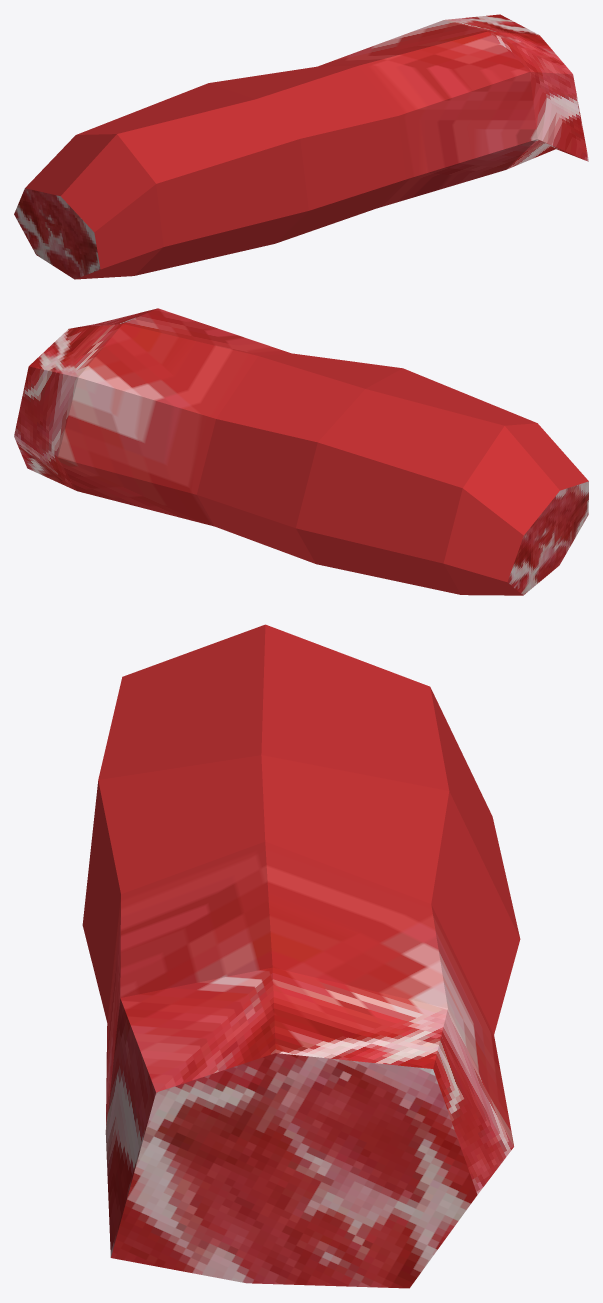
File: daging panjang .fbx
3 views of the same model, one above another, from view 1: azimuth 30°, elevation 25°; view 2: azimuth 150°, elevation 25°; view 3: azimuth 270°, elevation 25° (orthographic). The views are drawn at different scales.
Visible parts, largest first — view 1: Circle.009; view 2: Circle.009; view 3: Circle.009.
Part boxes in pixels (x1,y1,x2,y2): Circle.009: (14, 14, 588, 279); Circle.009: (14, 308, 588, 595); Circle.009: (82, 624, 520, 1288).
Size of the model in its own units: 81.85 by 24.49 by 31.68.
